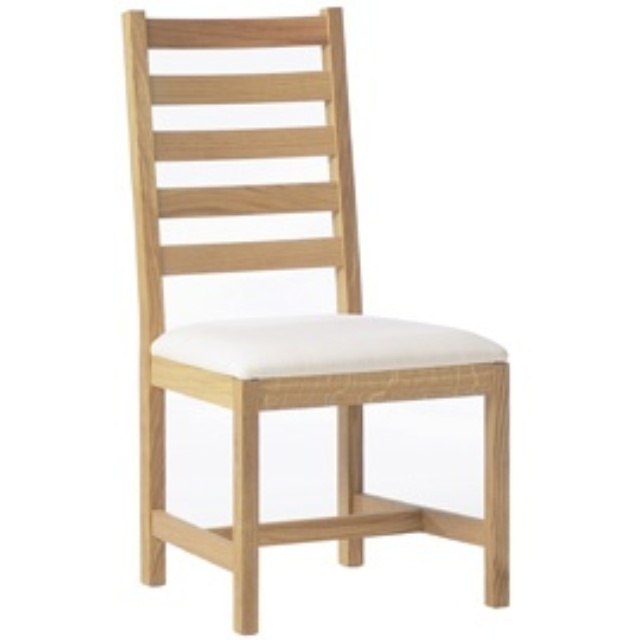obstacle: (123, 7, 507, 633)
